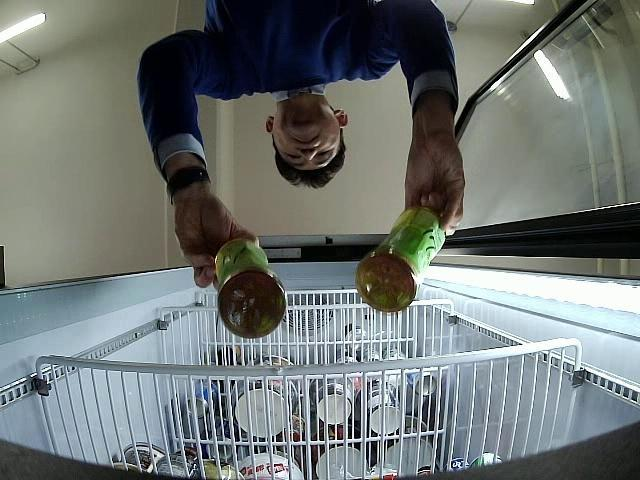19_17cha: (356, 208, 449, 313), (213, 242, 289, 336)
